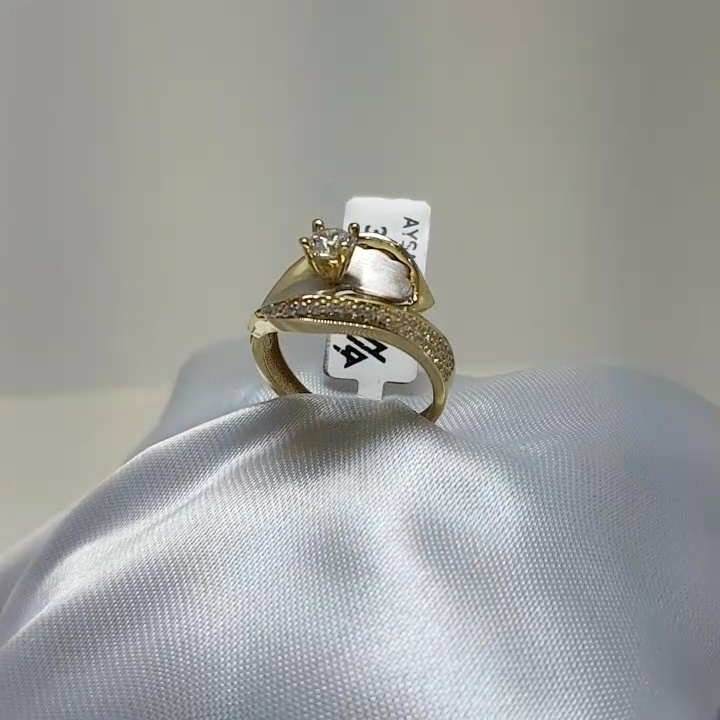Ring 6: (235, 175, 485, 432)
